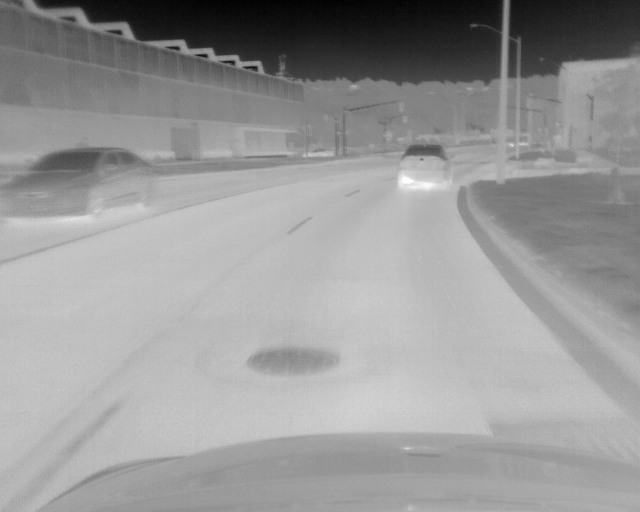car: (1, 145, 158, 221), (399, 144, 452, 190)
